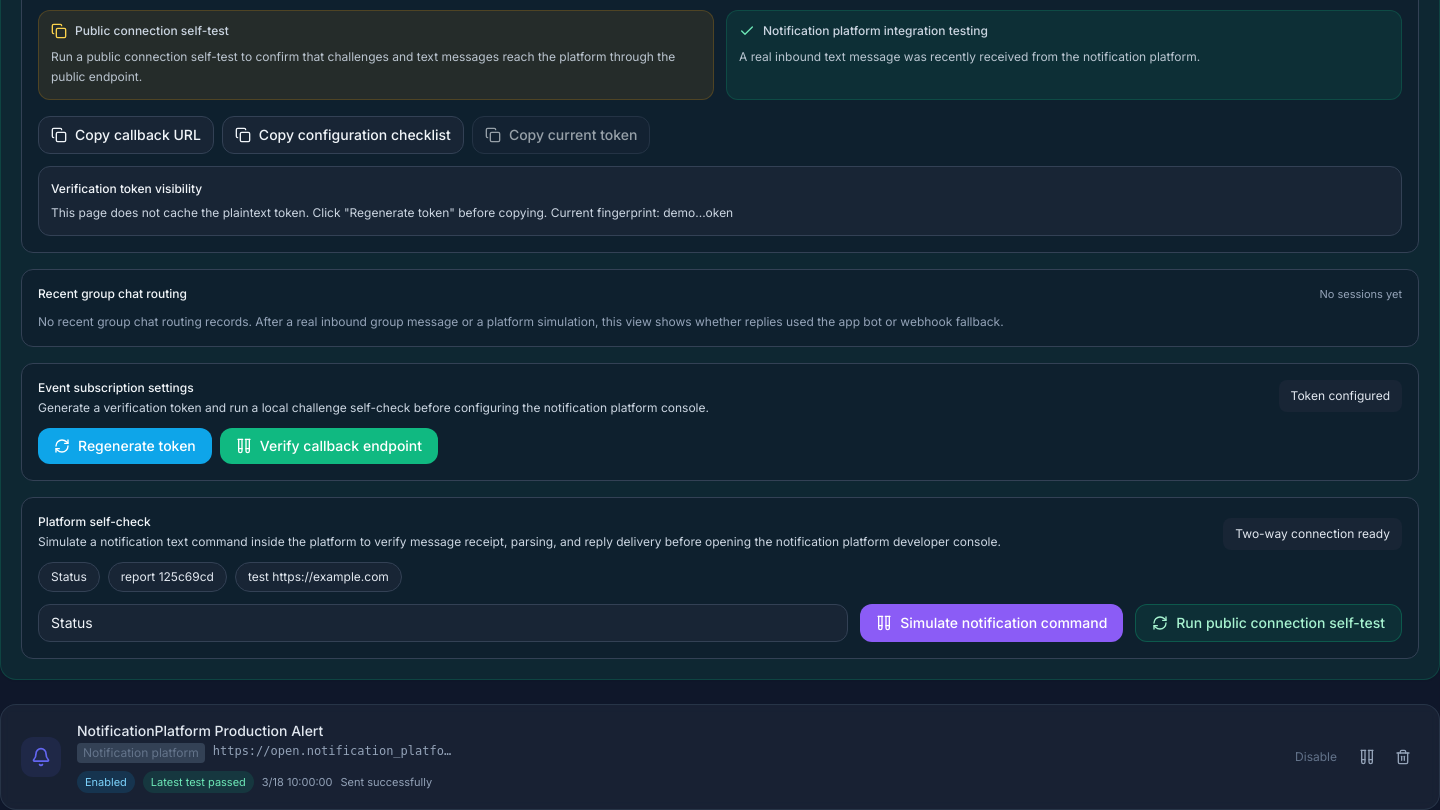
NotificationPage › should run external self check and render public chain result
(page scrolled)
Click the button "Run public connection self-test".
click(1269, 623)  # box [1135, 604, 1402, 642]
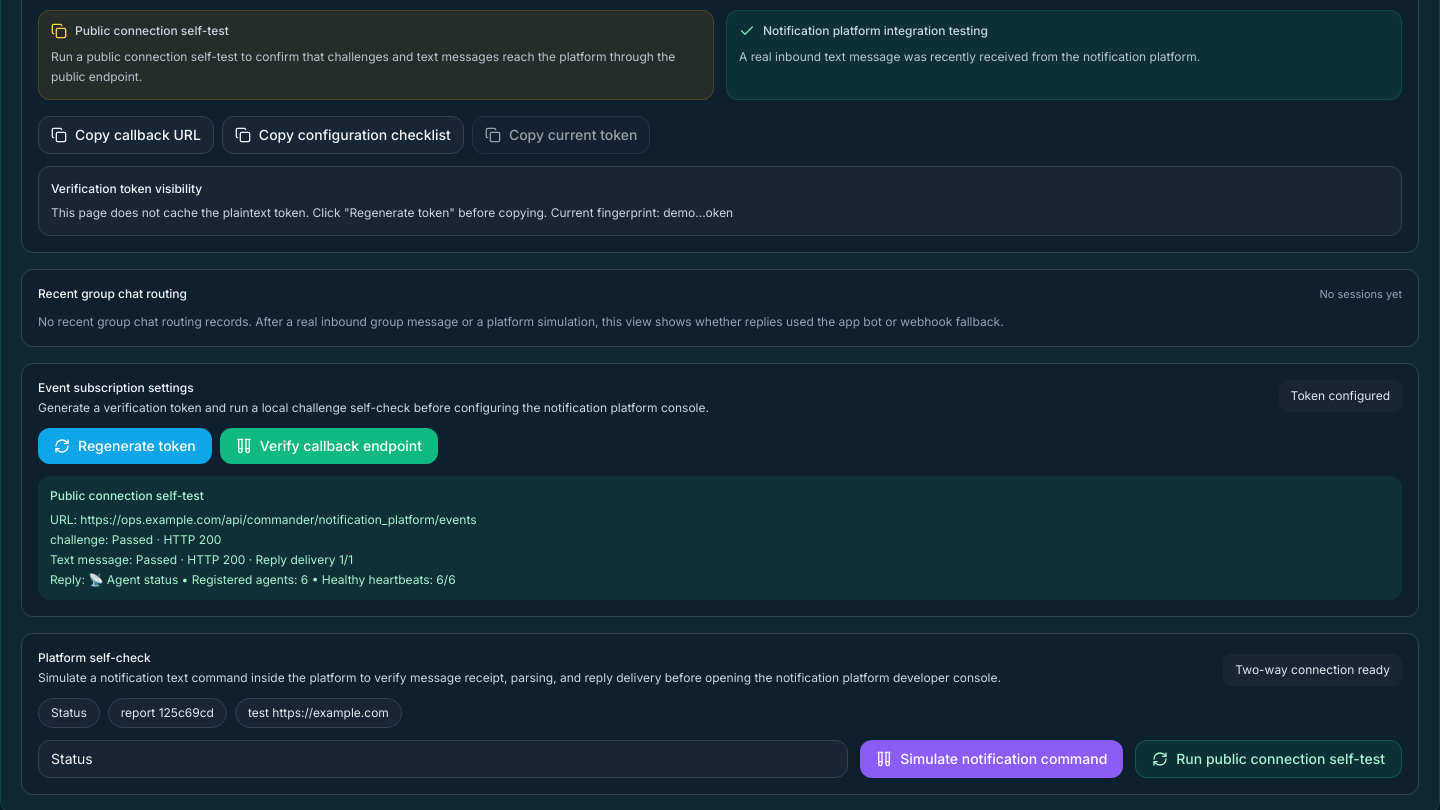
Expected: the text "URL: https://ops.example.com/api/commander/notification_platform/events" is shown, [50, 512, 477, 527]
Expected: the text "challenge: Passed · HTTP 200" is shown, [50, 532, 221, 547]
Expected: the text "Text message: Passed · HTTP 200 · Reply delivery 1/1" is shown, [50, 552, 353, 567]
